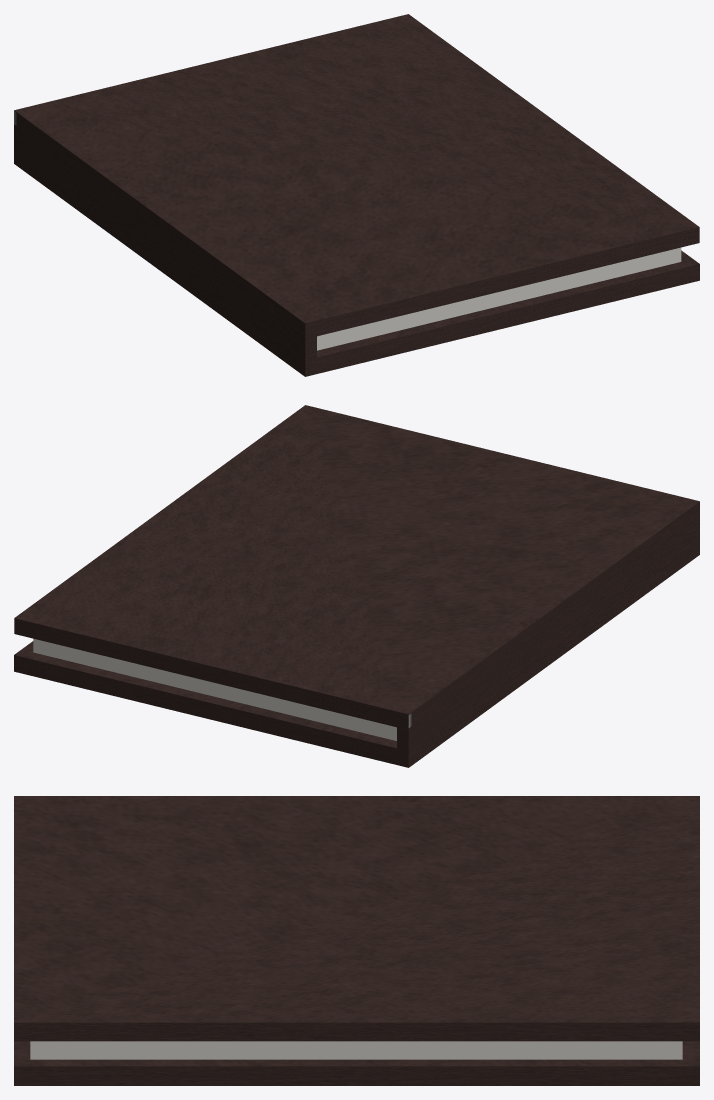
Rendered from Diary.fbx.
3 renders of one model, top to bottom at view 1: azimuth 30°, elevation 25°; view 2: azimuth 150°, elevation 25°; view 3: azimuth 270°, elevation 25°, orthographic. The views are drawn at different scales.
Parts seen in each view (by area): view 1: Cube.010, Cube.013; view 2: Cube.010, Cube.013; view 3: Cube.010, Cube.013.
Part boxes in pixels (bbox=[...]): Cube.010: bbox=[14, 14, 699, 376]; Cube.013: bbox=[317, 247, 681, 350]; Cube.010: bbox=[14, 405, 699, 767]; Cube.013: bbox=[33, 638, 396, 740]; Cube.010: bbox=[14, 796, 699, 1085]; Cube.013: bbox=[30, 1041, 682, 1059].
Size of the model in its own units: 14.07 by 1.82 by 17.97.
1 material, 1 textured.
